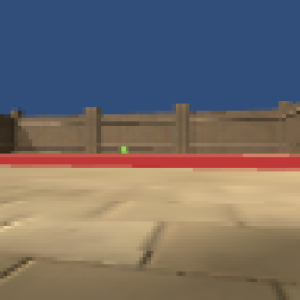deathZone: (1, 152, 300, 173)
goodGoal: (118, 145, 130, 153)
